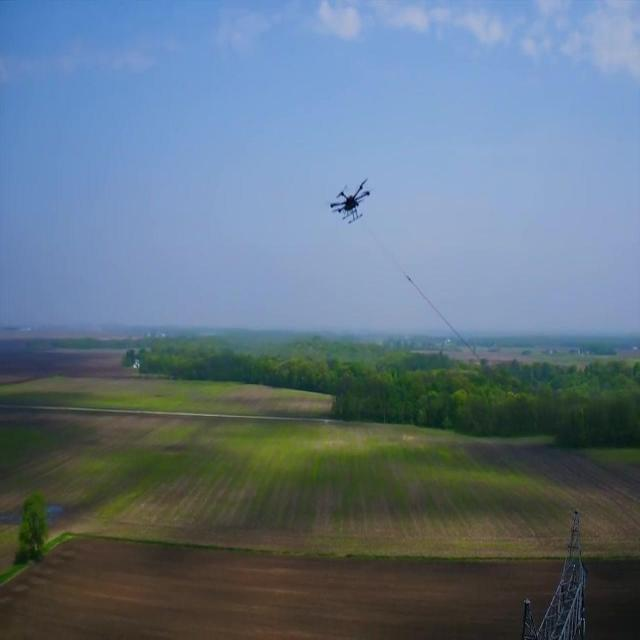UAV: (330, 178, 370, 224)
